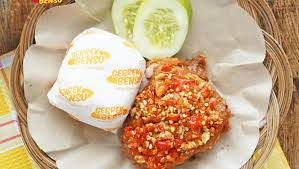ayam_geprek: (140, 63, 227, 166)
